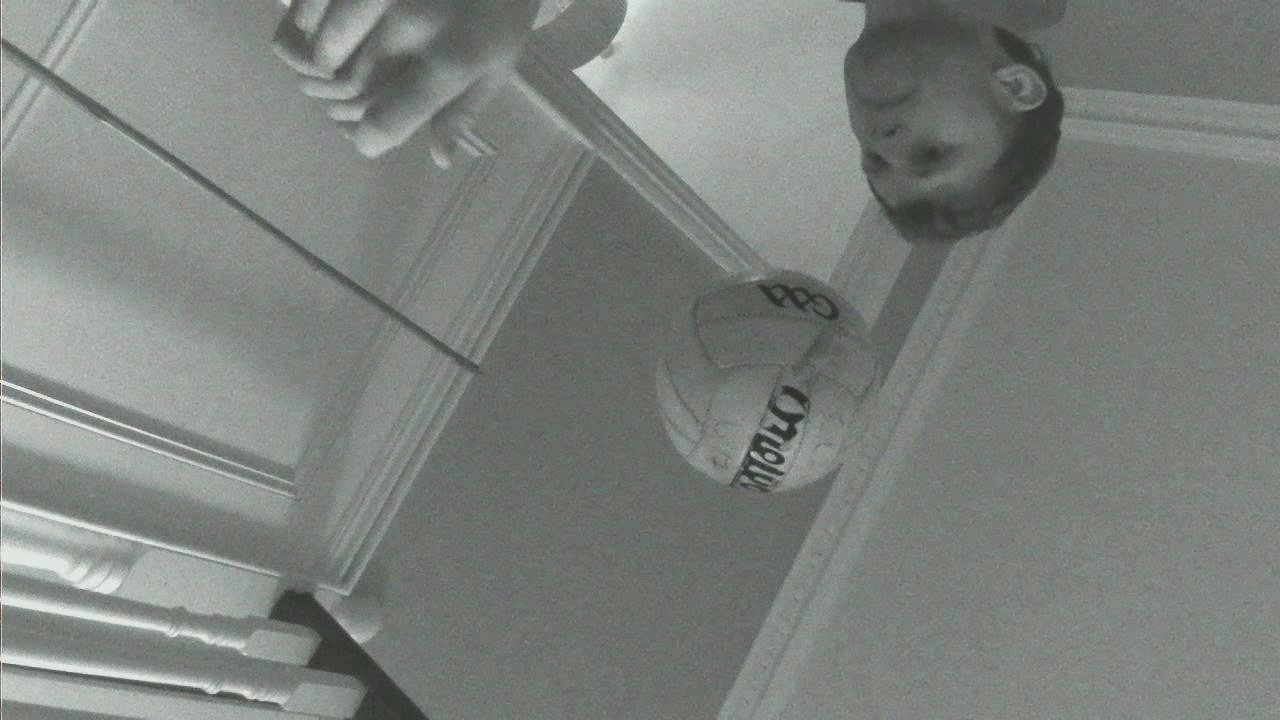Football-Spotter: (656, 271, 878, 492)
